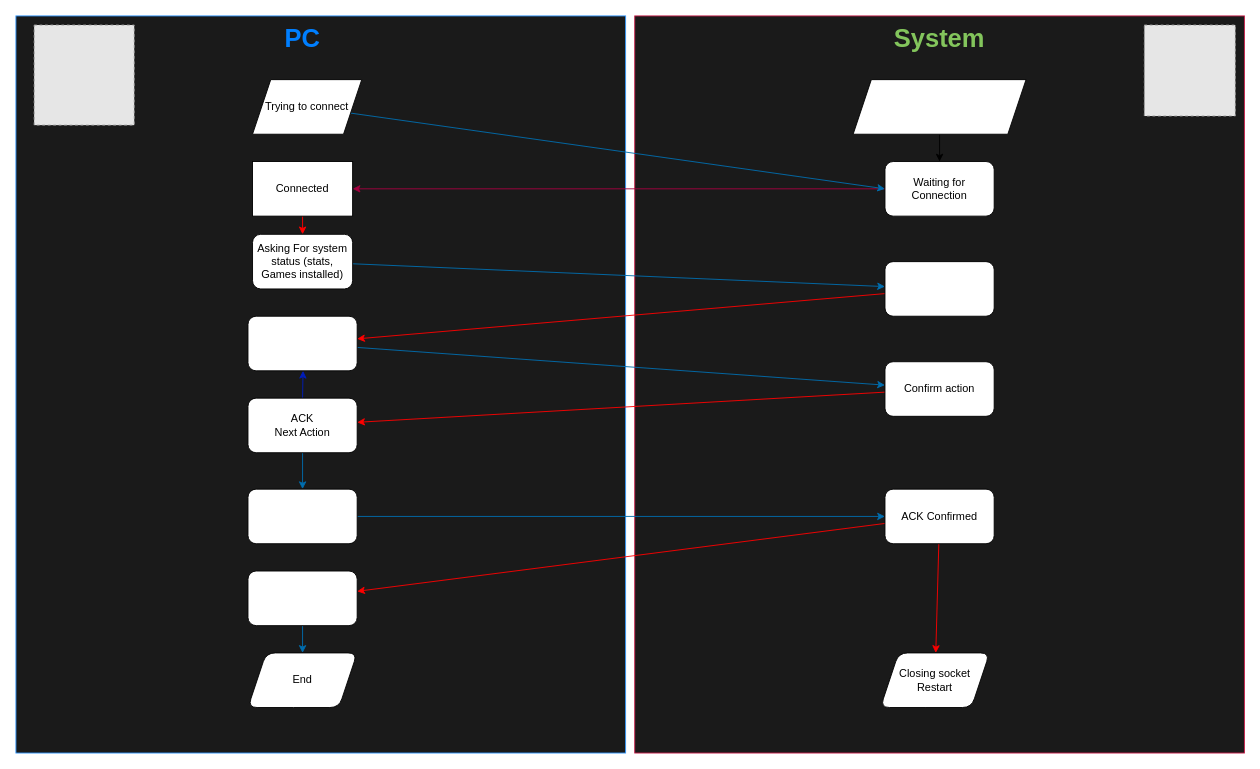
Image size: 1260x769. Some labels were removed from this diagram. Grey dashed boxes stand in for pictures. Here are the shapes that lost their labels. From the top down, the box of each, then its label:
(852, 79, 1026, 134): Start socket TCP IP: Default gateway Port: 13213
(884, 261, 994, 316): Sending system status
(247, 315, 357, 371): System Control Actions
(247, 488, 357, 544): System Disconnect and restart
(247, 570, 357, 626): Closing socket
